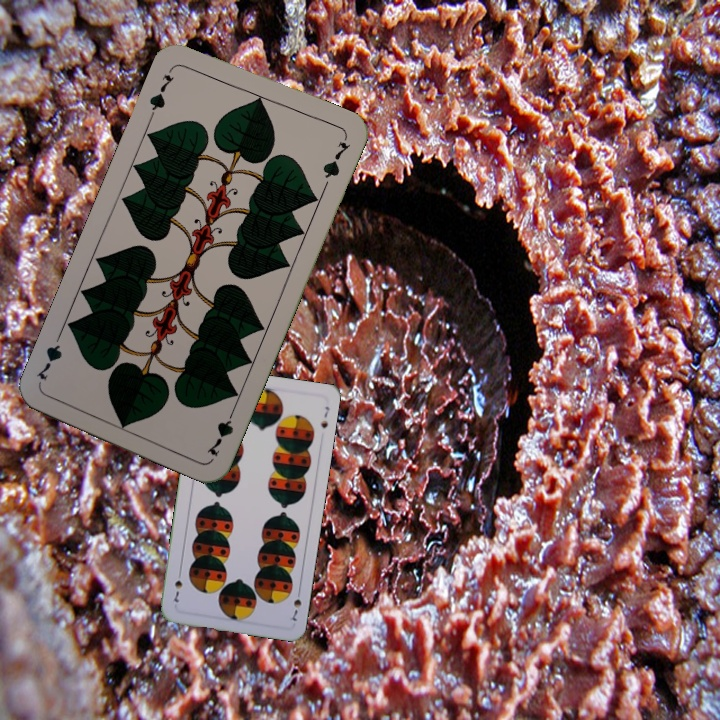G7: (202, 403, 238, 459), (145, 63, 177, 119)
S7: (288, 585, 304, 624)
